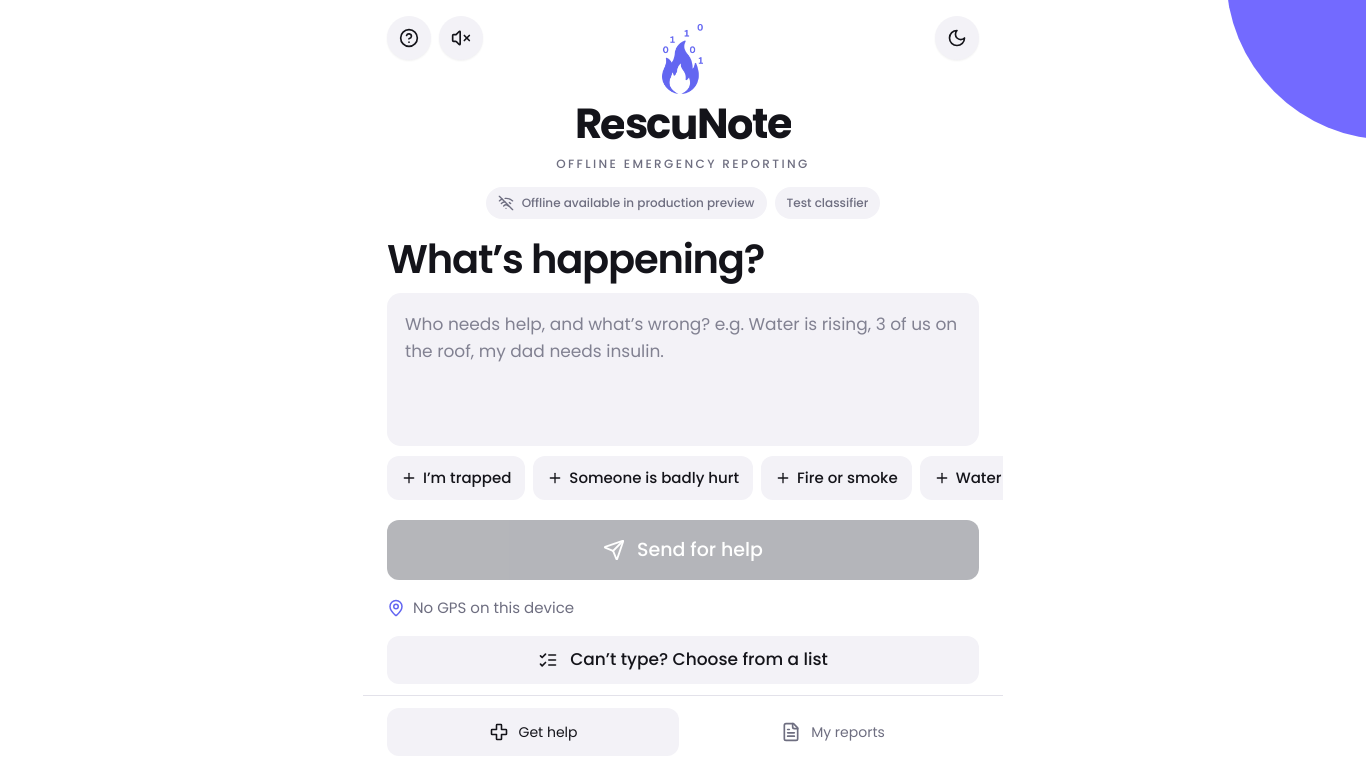
Test case: does not complete stale analysis after leaving Report
The width and height of the screenshot is (1366, 768).
Type "test" into the text box named "What’s happening? Who needs help?" at (683,369), box [387,293,979,446]
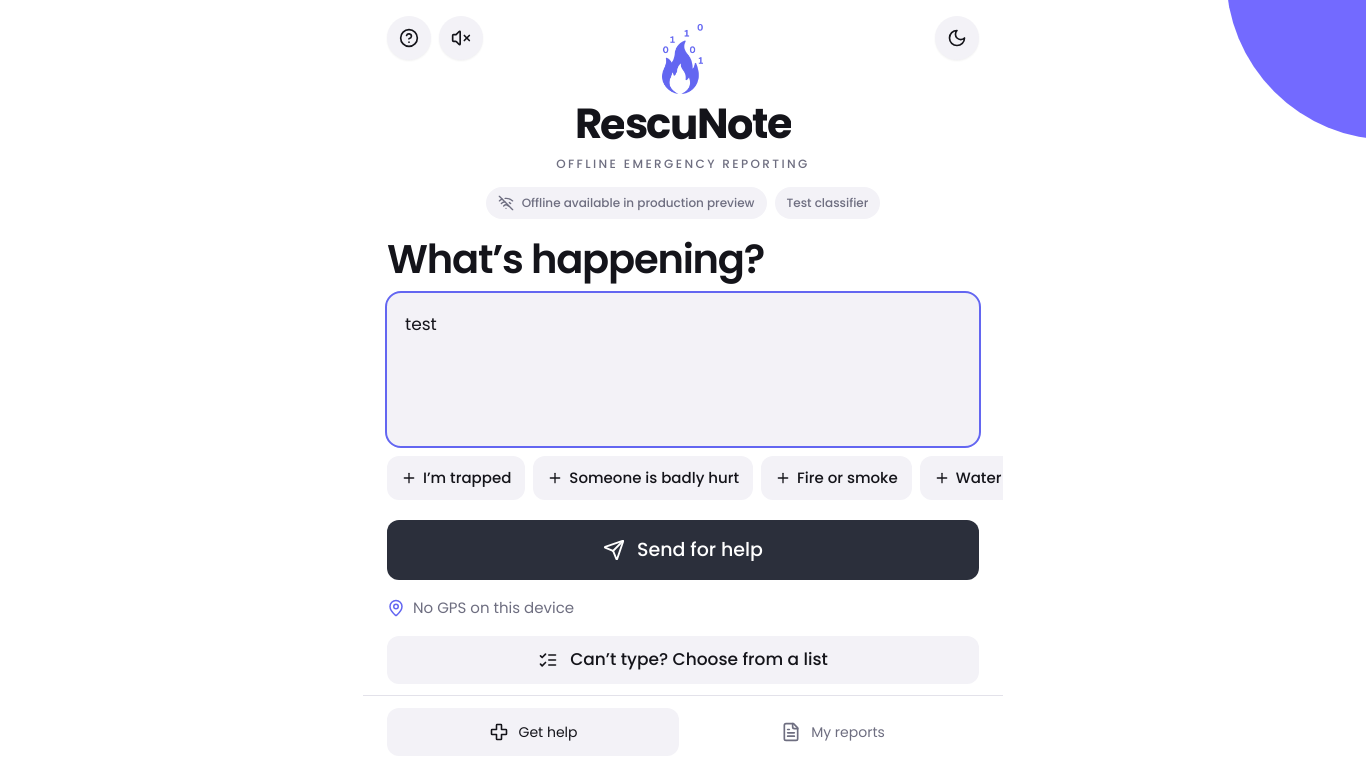
Click the button "Send for help" at (683,550), box [387,520,979,580]
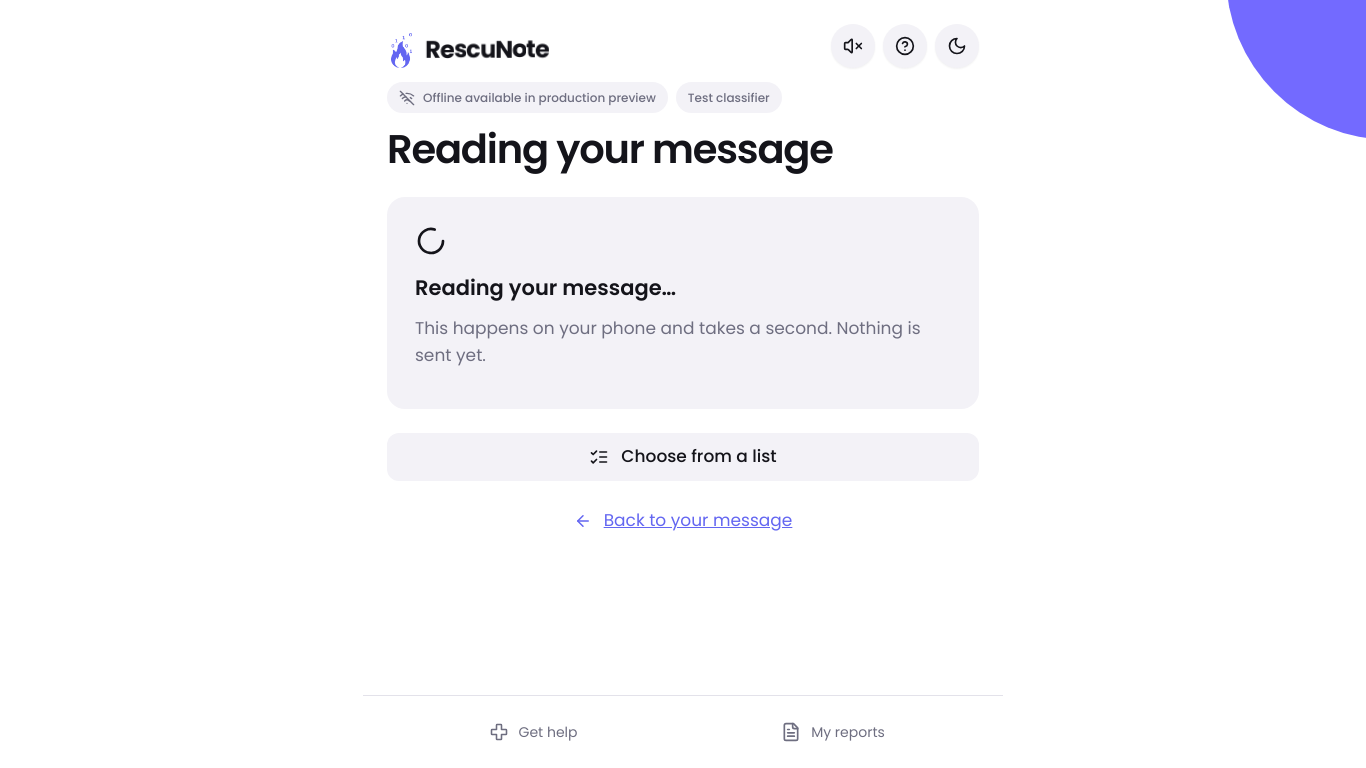
Click the link "My reports" at (833,732), box [781,722,885,742]
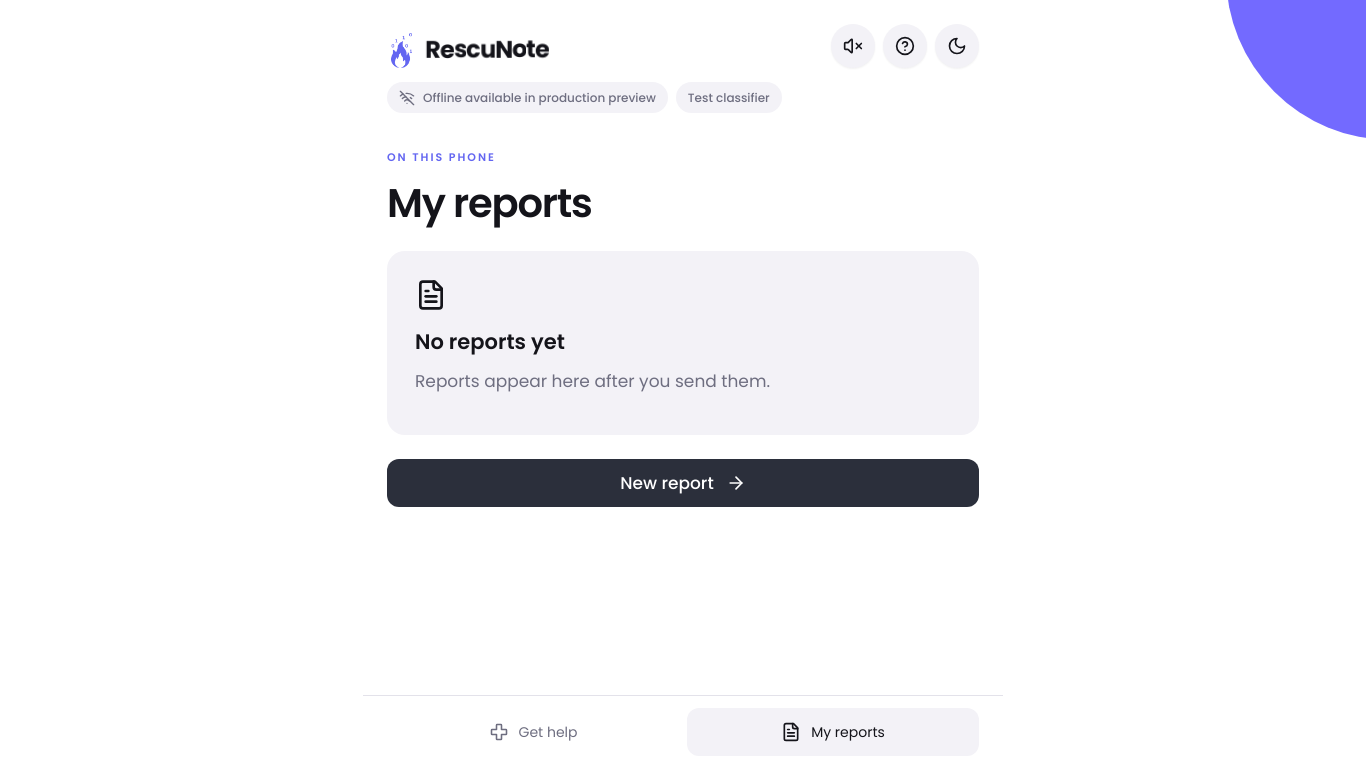
Result: the heading "My reports" is shown at [387,175,592,231]
